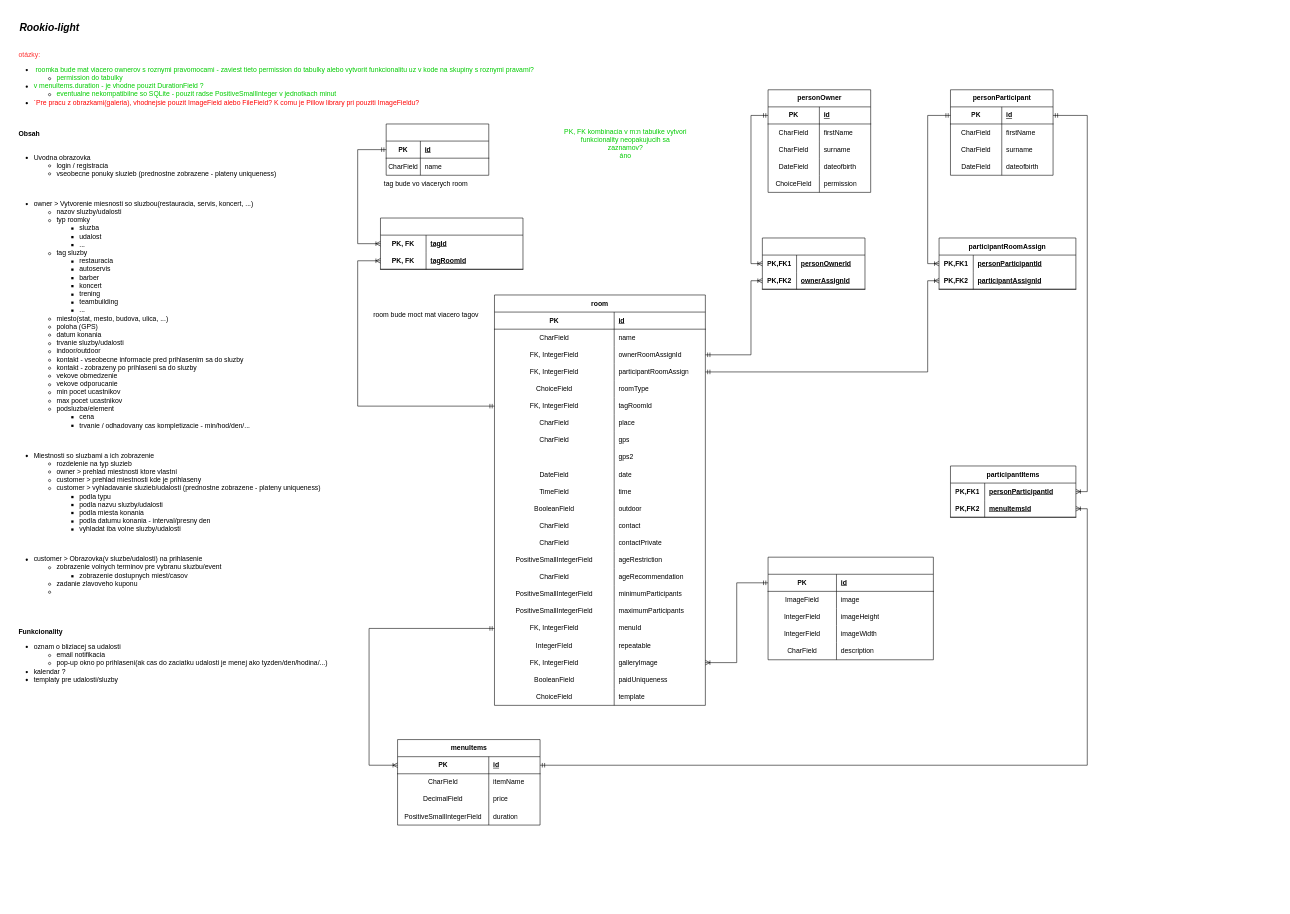
The diagram is 1290 pixels wide and 914 high, and some of its shapes have lost their labels. Each missing label, with the box of its shape:
images: (768, 557, 933, 660)
ownerRoomAssign: (762, 237, 865, 289)
tag: (386, 123, 489, 175)
tagAssign: (380, 217, 523, 269)
